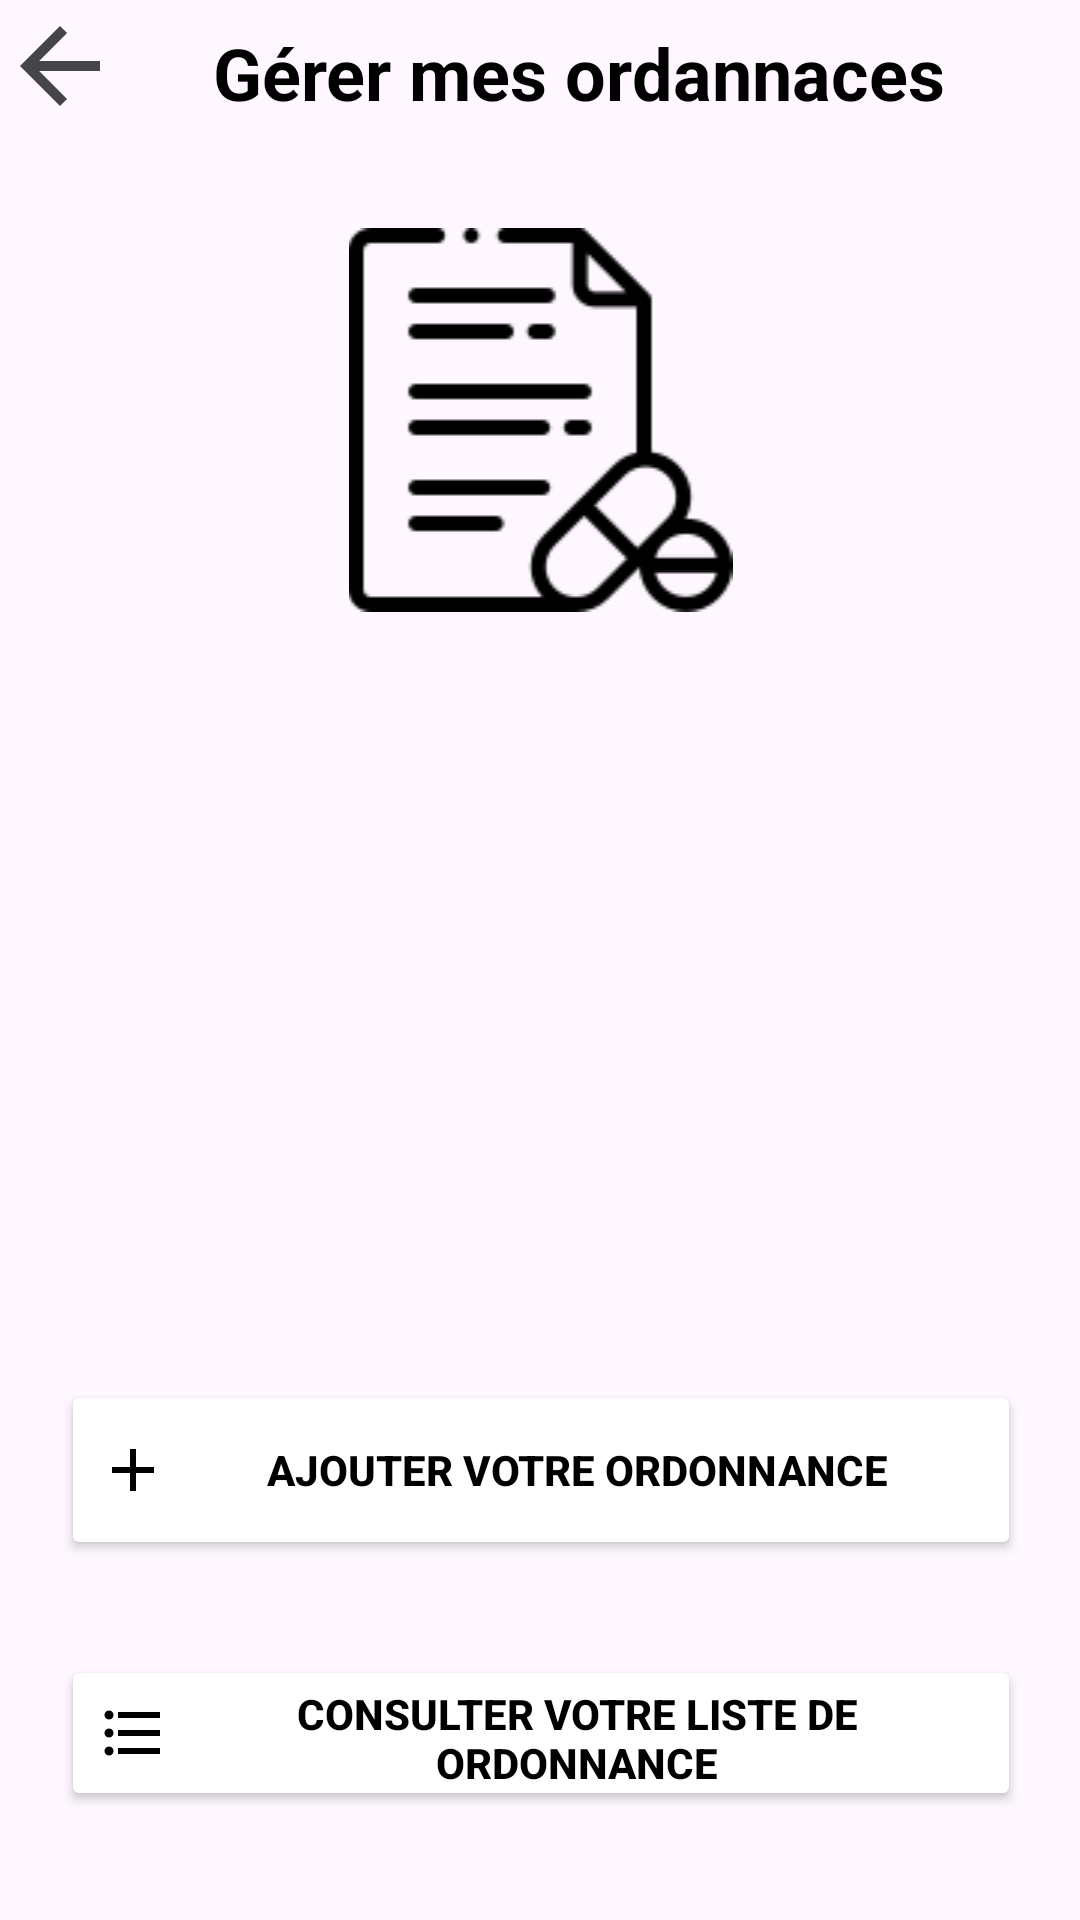

Named icons in this screenshot (1080px×1920px) and their bounding boxes, (x1, y1, x2, y2):
back: (20, 26, 100, 106)
